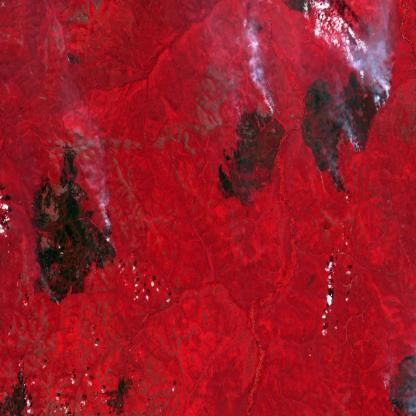fire: (358, 68, 393, 114), (90, 215, 113, 250), (266, 102, 279, 121), (350, 136, 361, 155)
